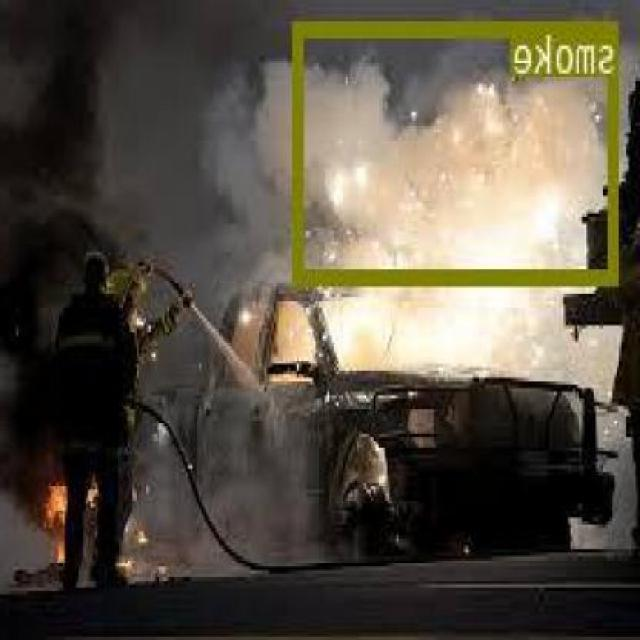Smoke: (294, 19, 620, 281)
